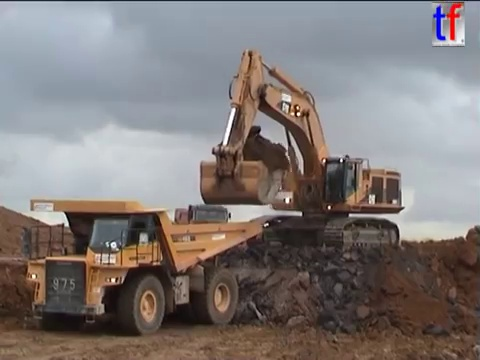excavator: (196, 47, 408, 256)
truck: (19, 197, 266, 337), (173, 202, 232, 239)
